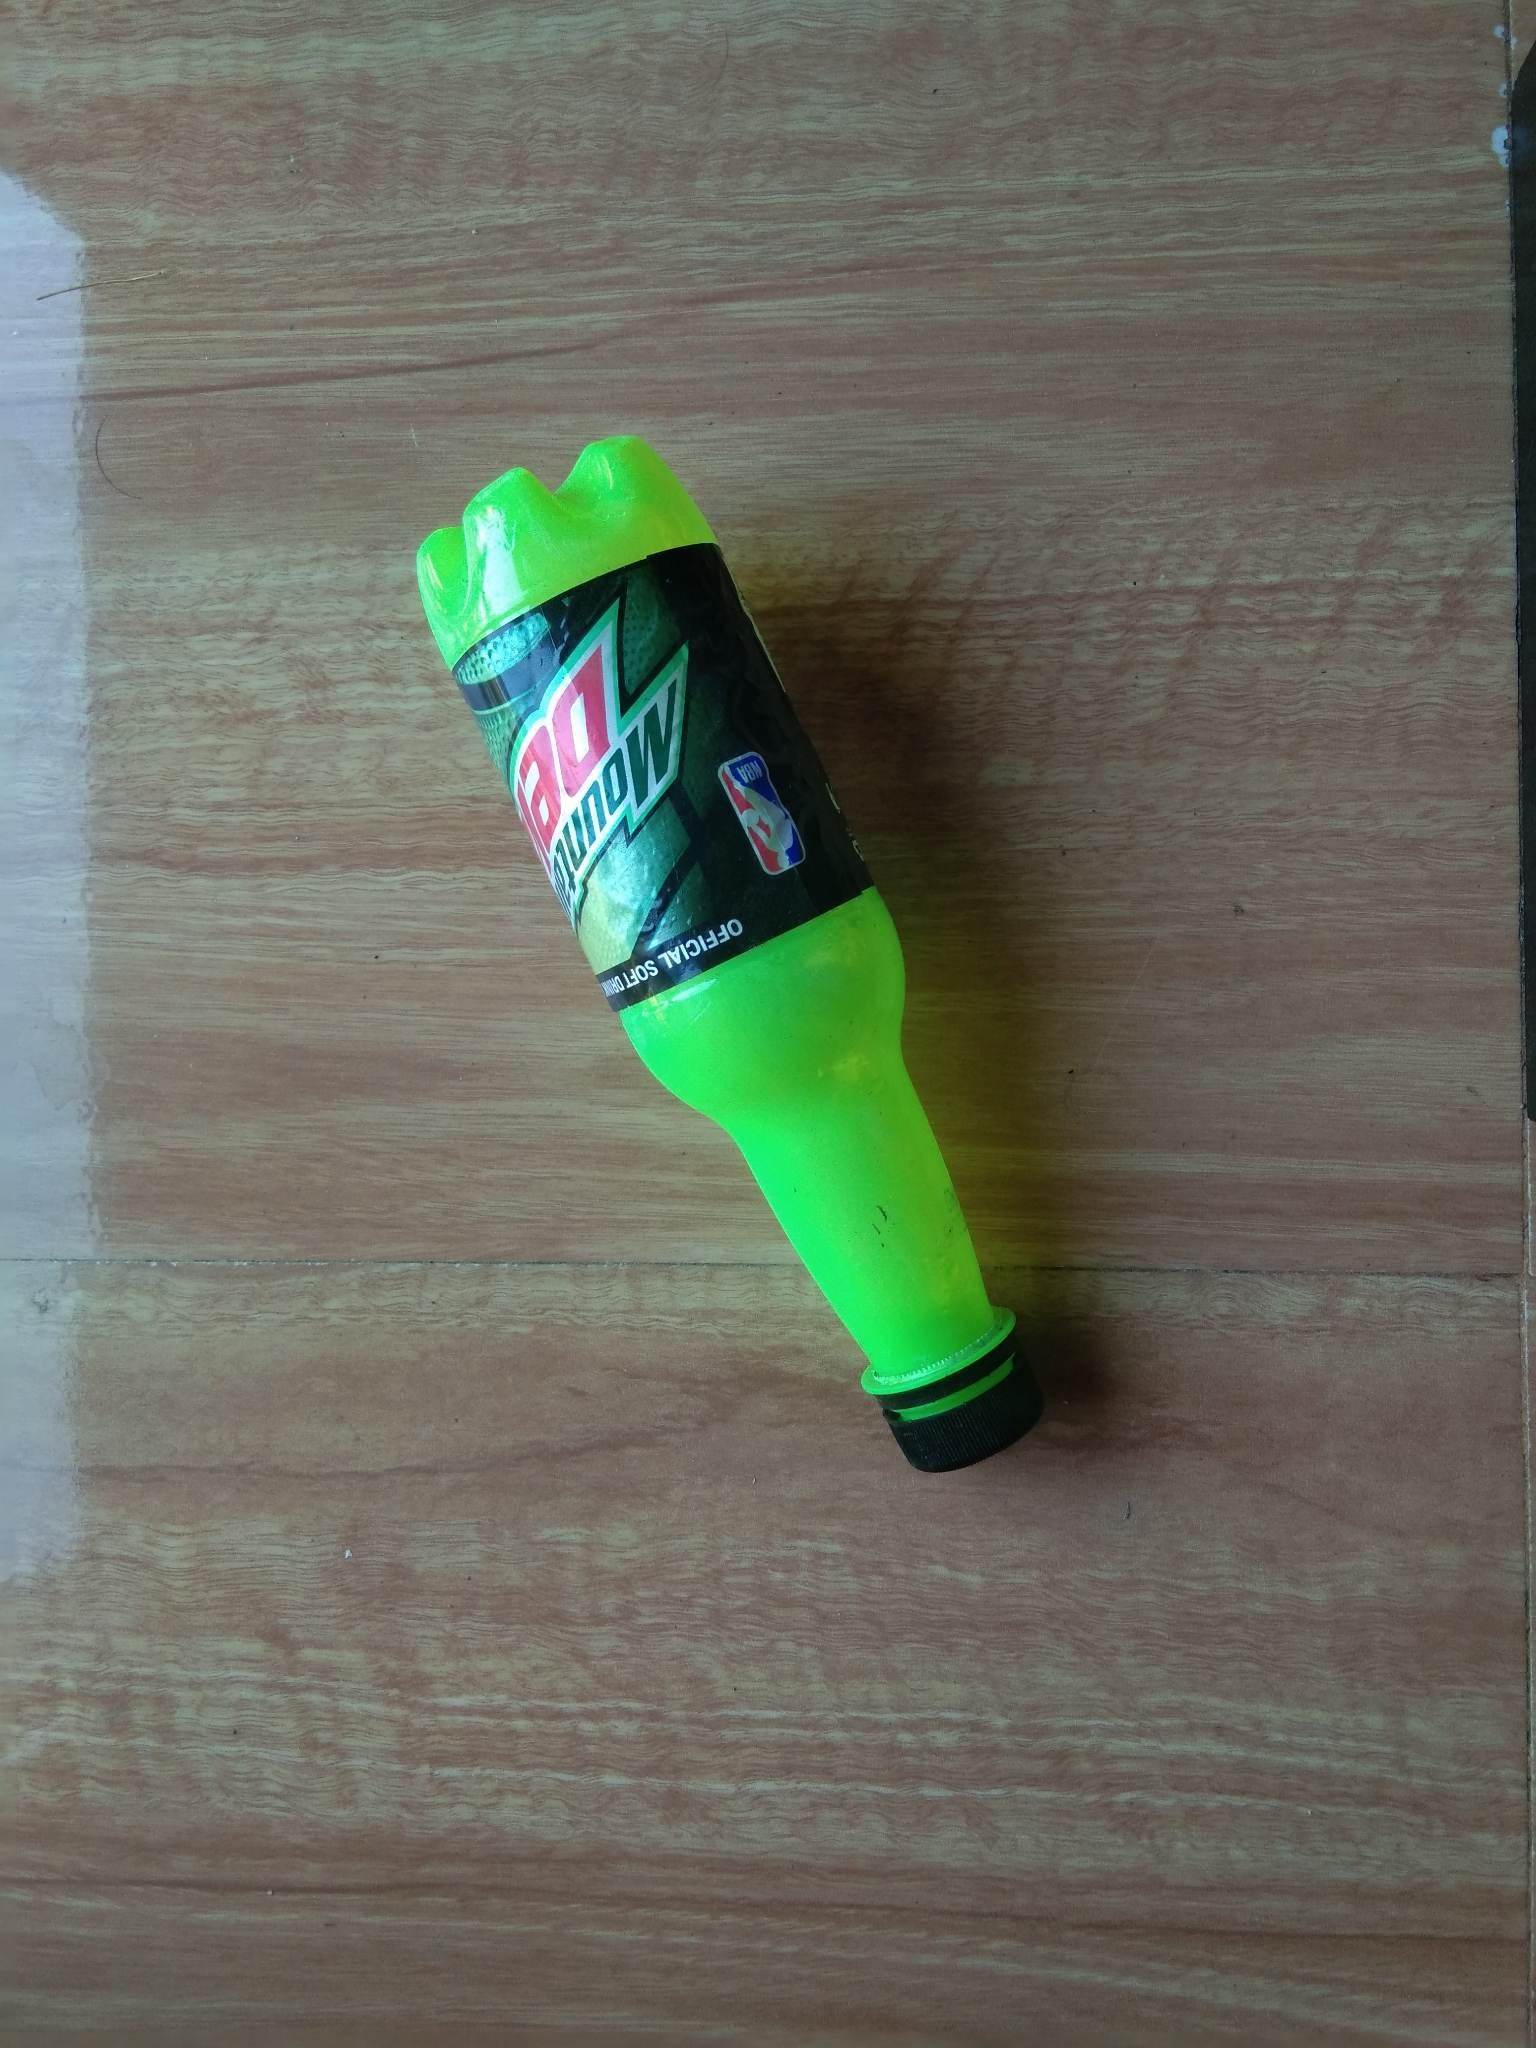plastic: (269, 342, 1183, 1550)
